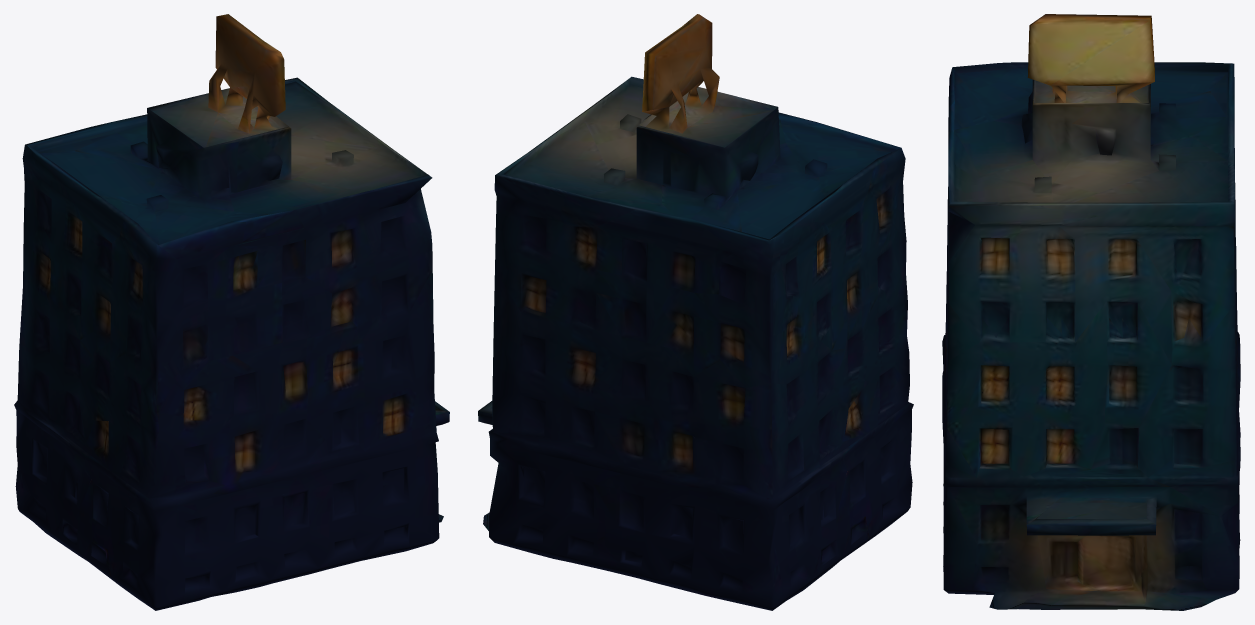
File: 3d-hotel.glb
3 renders of one model, left to right at view 1: azimuth 30°, elevation 25°; view 2: azimuth 150°, elevation 25°; view 3: azimuth 270°, elevation 25°, orthographic. The views are drawn at different scales.
Parts seen in each view (by area): view 1: tripo_node_082db683-e823-417e-b59d-d4e98124e6c4; view 2: tripo_node_082db683-e823-417e-b59d-d4e98124e6c4; view 3: tripo_node_082db683-e823-417e-b59d-d4e98124e6c4.
Part boxes in pixels (left/top/right/bottom): tripo_node_082db683-e823-417e-b59d-d4e98124e6c4: left=14, top=14, right=449, bottom=610; tripo_node_082db683-e823-417e-b59d-d4e98124e6c4: left=478, top=14, right=913, bottom=610; tripo_node_082db683-e823-417e-b59d-d4e98124e6c4: left=942, top=14, right=1240, bottom=610.
Size of the model in its own units: 0.7227 by 1 by 0.523.
1 material, 1 textured.
